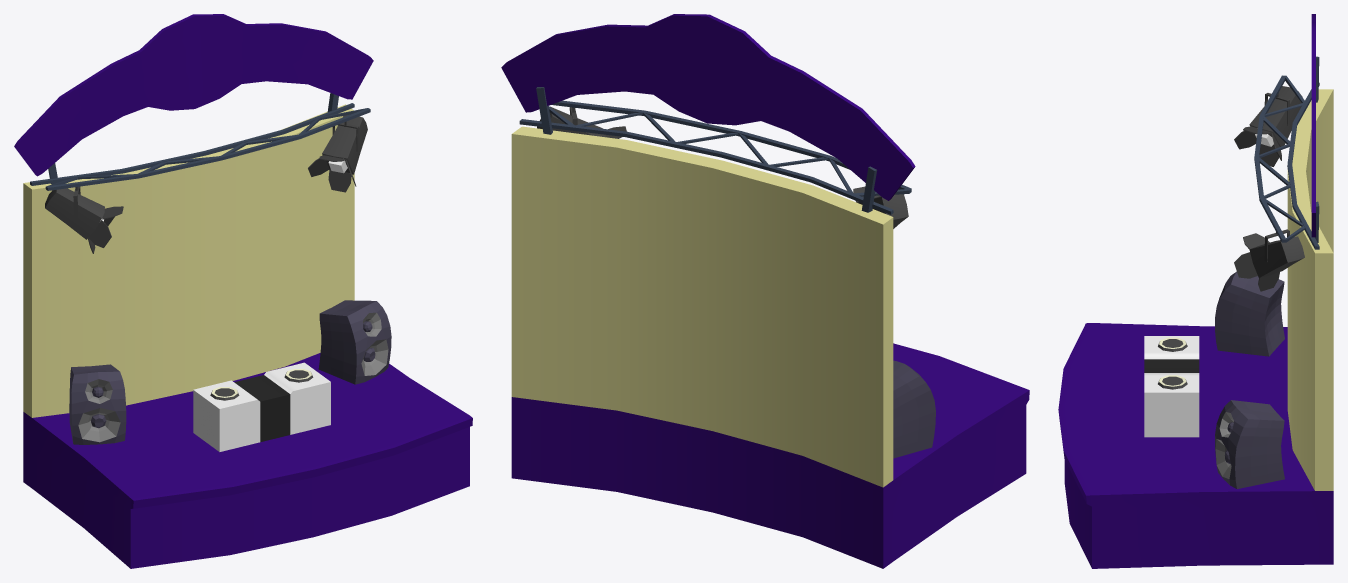
The picture shows the model from 3 angles, left to right: view 1: azimuth 30°, elevation 25°; view 2: azimuth 150°, elevation 25°; view 3: azimuth 270°, elevation 25°; orthographic projection. The views are drawn at different scales.
Parts seen in each view (by area): view 1: STAGE, SIGN, DJ_SET, pCube21, STAGE_LIGHT (×2), pCube6, GRID1; view 2: STAGE, SIGN, GRID1, pCube6, SIGN_HOLDERS, STAGE_LIGHT; view 3: STAGE, pCube21, DJ_SET, pCube6, STAGE_LIGHT (×2), GRID1, SIGN.
Part boxes in pixels (box(x1,y1,x2,y2)): STAGE: box(23, 104, 472, 568); SIGN: box(14, 14, 373, 176); DJ_SET: box(193, 362, 330, 451); pCube21: box(318, 300, 391, 384); STAGE_LIGHT (×2): box(45, 114, 367, 253); pCube6: box(69, 364, 126, 444); GRID1: box(30, 103, 370, 190); STAGE: box(511, 126, 1029, 568); SIGN: box(501, 14, 915, 200); GRID1: box(519, 100, 911, 214); pCube6: box(893, 360, 935, 458); SIGN_HOLDERS: box(536, 87, 877, 212); STAGE_LIGHT: box(853, 186, 908, 228); STAGE: box(1058, 89, 1333, 568); pCube21: box(1215, 400, 1284, 488); DJ_SET: box(1144, 336, 1199, 437); pCube6: box(1215, 271, 1284, 356); STAGE_LIGHT (×2): box(1234, 86, 1304, 291); GRID1: box(1254, 75, 1319, 249); SIGN: box(1311, 14, 1315, 237).
Bounding box in the file's own units: 44.81 × 52 × 28.65.
